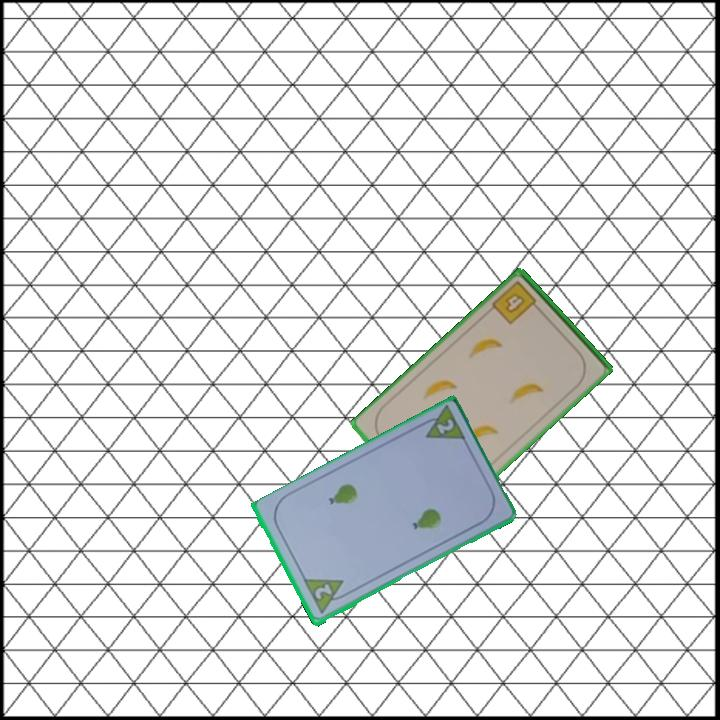2p: (433, 415, 457, 438), (310, 581, 335, 603)
4b: (488, 277, 544, 328)
